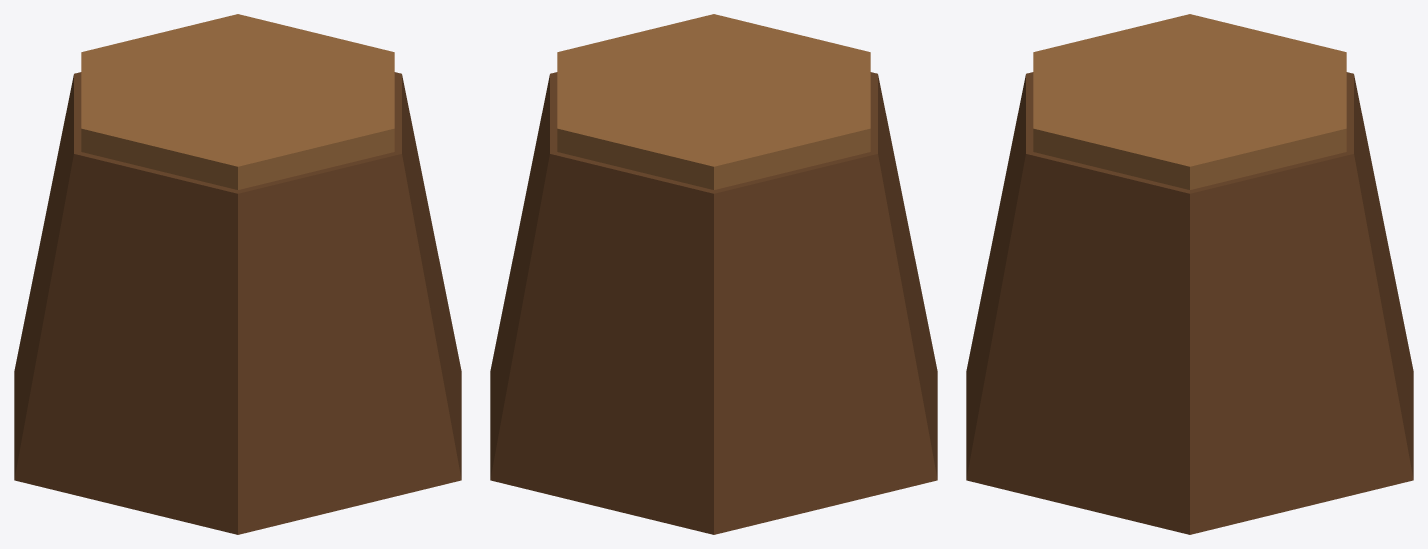
File: stump.glb
3 views of the same model, side by side, from view 1: azimuth 30°, elevation 25°; view 2: azimuth 150°, elevation 25°; view 3: azimuth 270°, elevation 25° (orthographic).
Visible parts, largest first — view 1: stump; view 2: stump; view 3: stump.
Part boxes in pixels (<box>): stump: <box>14,14,461,534</box>; stump: <box>490,14,937,534</box>; stump: <box>966,14,1413,534</box>.
Size of the model in its own units: 0.6 by 0.43 by 0.5196.
